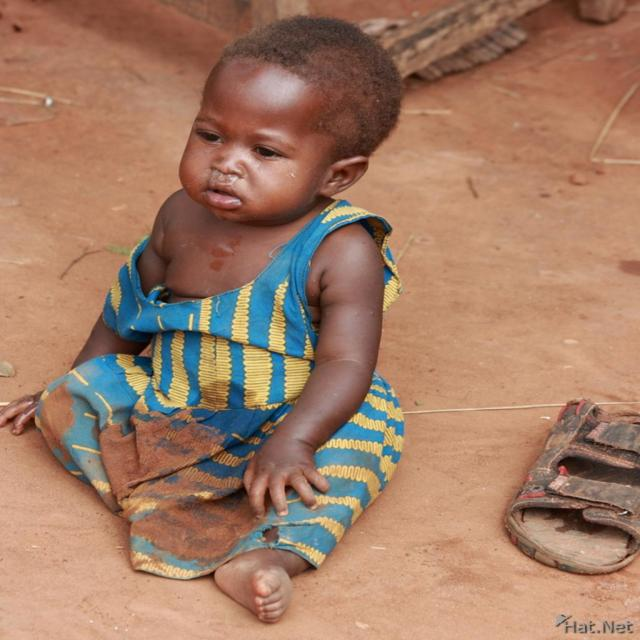Face: (159, 44, 387, 222)
